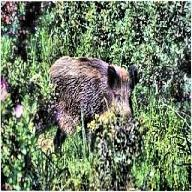boar: (28, 55, 140, 155)
